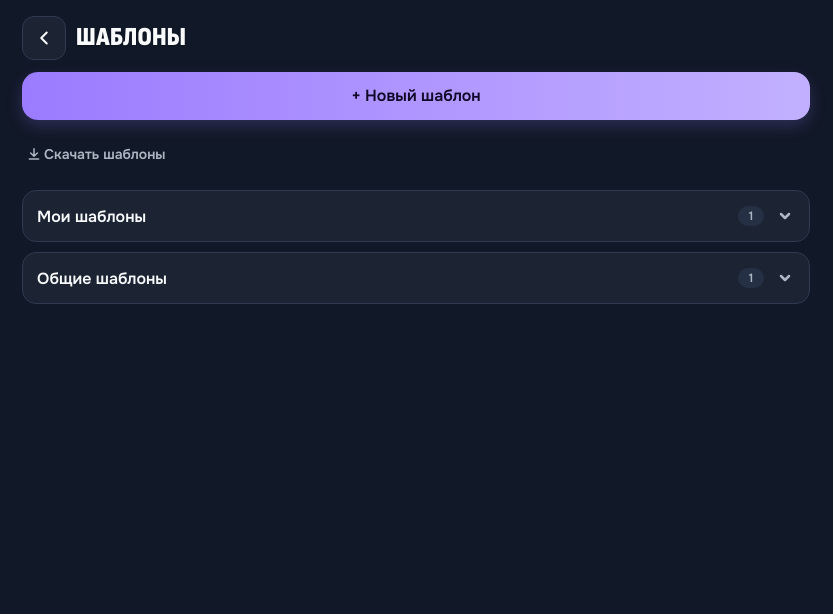
TemplatesScreen — редактор › шаблон, ставший чужим, — только просмотр: план и автор, без полей и кнопок
Click the button "Мои шаблоны 1". click: point(92, 216)
box: [22, 190, 810, 242]
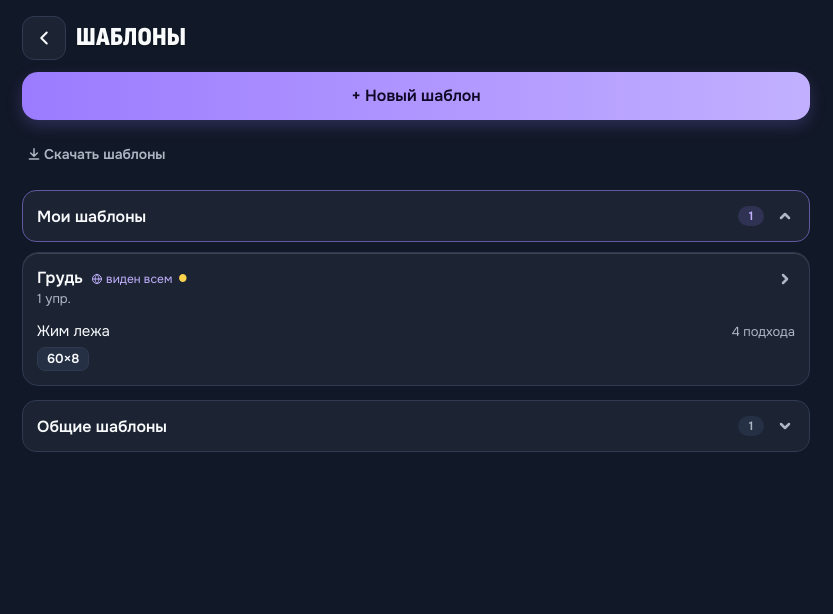
Click the button "Общие шаблоны 1". click: point(102, 426)
box: [22, 400, 810, 452]
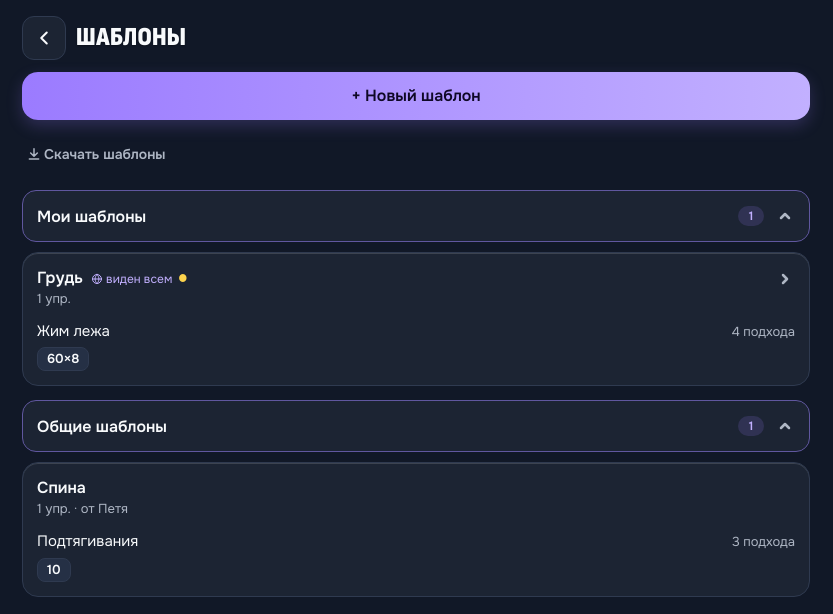
Click the button "Грудь". click: point(60, 278)
box: [22, 252, 810, 386]
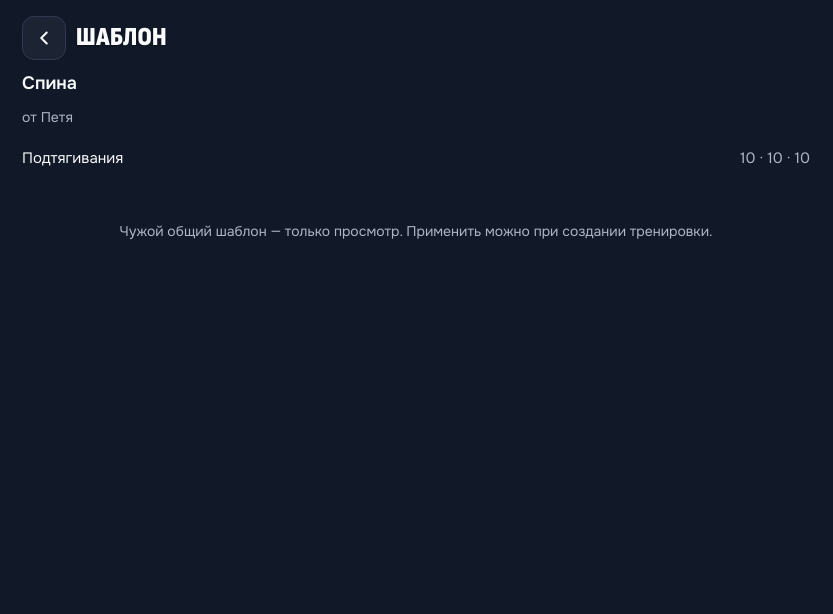
Expected: the text "от Петя" is shown, [22, 108, 73, 126]
Expected: the text "только просмотр" is shown, [120, 222, 713, 240]
Expected: the list item with class "history-ex" shows "Подтягивания", [22, 148, 123, 168]
